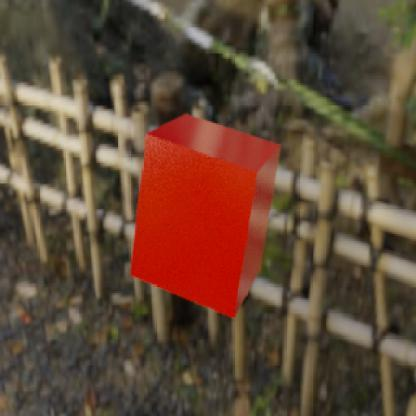red_cube: (129, 113, 281, 319)
